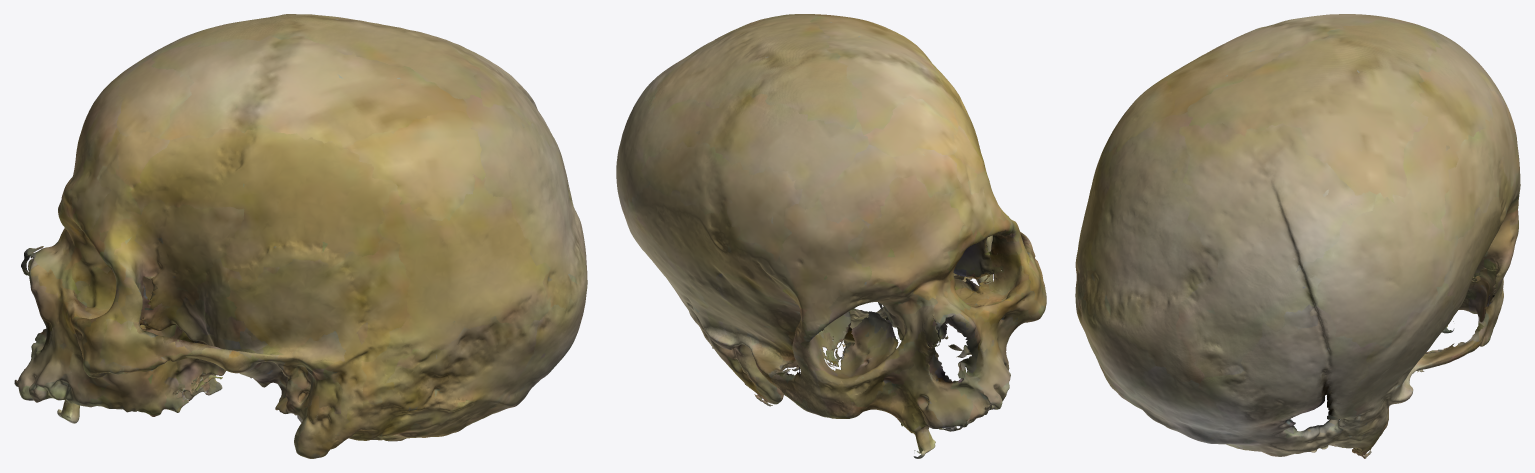
File: asterion-web.glb
3 renders of one model, left to right at view 1: azimuth 30°, elevation 25°; view 2: azimuth 150°, elevation 25°; view 3: azimuth 270°, elevation 25°, orthographic. The views are drawn at different scales.
Parts seen in each view (by area): view 1: defaultobject; view 2: defaultobject; view 3: defaultobject.
Part boxes in pixels (x1,y1,x2,y2): defaultobject: [14, 14, 587, 458]; defaultobject: [616, 14, 1046, 458]; defaultobject: [1075, 14, 1520, 458].
Size of the model in its own units: 190 by 156 by 159.
Materials: 1 (1 with a texture image).
